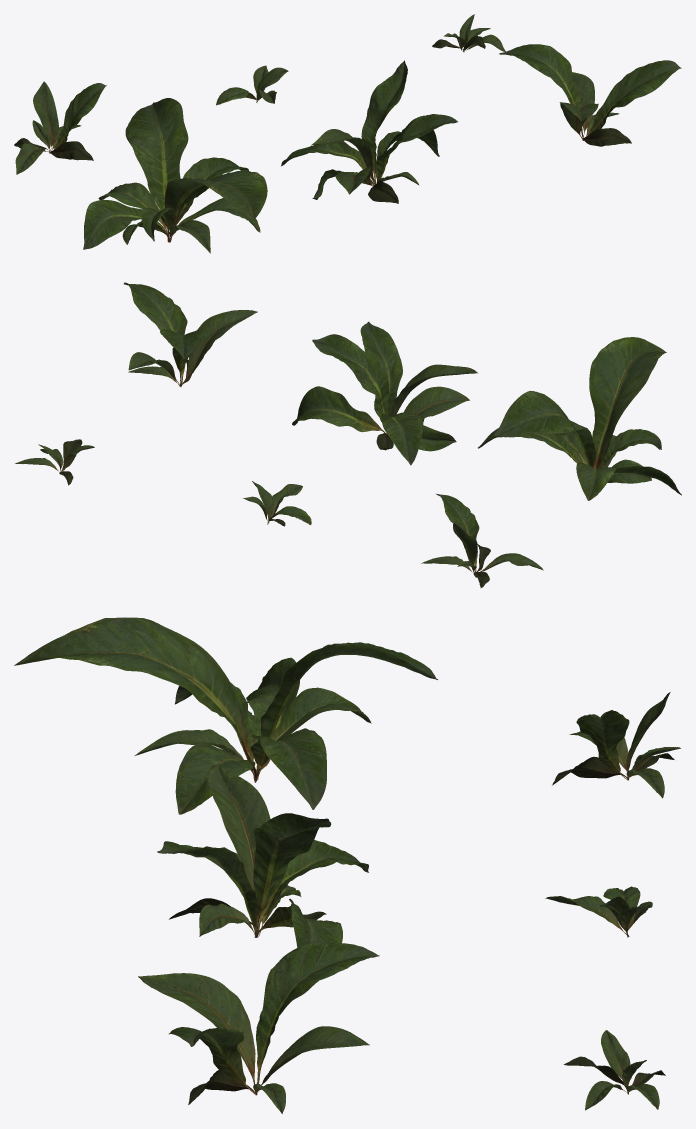
File: anthurium_botany_01.glb
3 renders of one model, top to bottom at view 1: azimuth 30°, elevation 25°; view 2: azimuth 150°, elevation 25°; view 3: azimuth 270°, elevation 25°, orthographic. The views are drawn at different scales.
Visible parts, largest first — view 1: anthurium_botany_01_a, anthurium_botany_01_b, anthurium_botany_01_c, anthurium_botany_04_d, anthurium_botany_05_e, anthurium_botany_06_f; view 2: anthurium_botany_01_a, anthurium_botany_01_b, anthurium_botany_01_c, anthurium_botany_04_d, anthurium_botany_05_e, anthurium_botany_06_f; view 3: anthurium_botany_01_a, anthurium_botany_01_b, anthurium_botany_01_c, anthurium_botany_04_d, anthurium_botany_06_f, anthurium_botany_05_e.
Boxes of the visible parts, x1,y1,x2,y2 form: anthurium_botany_01_a: (83,98,267,253); anthurium_botany_01_b: (281,60,457,203); anthurium_botany_01_c: (499,44,681,146); anthurium_botany_04_d: (14,81,106,174); anthurium_botany_05_e: (216,65,288,105); anthurium_botany_06_f: (432,14,505,52); anthurium_botany_01_a: (478,337,681,500); anthurium_botany_01_b: (292,321,477,465); anthurium_botany_01_c: (123,282,257,386); anthurium_botany_04_d: (421,494,543,588); anthurium_botany_05_e: (243,481,311,526); anthurium_botany_06_f: (15,439,94,485); anthurium_botany_01_a: (14,617,437,814); anthurium_botany_01_b: (157,763,368,981); anthurium_botany_01_c: (138,942,379,1113); anthurium_botany_04_d: (552,692,680,798); anthurium_botany_06_f: (563,1030,665,1110); anthurium_botany_05_e: (545,886,652,937).
Bounding box in the file's own units: 2.8 × 0.4997 × 1.8.
1 material, 1 textured.
